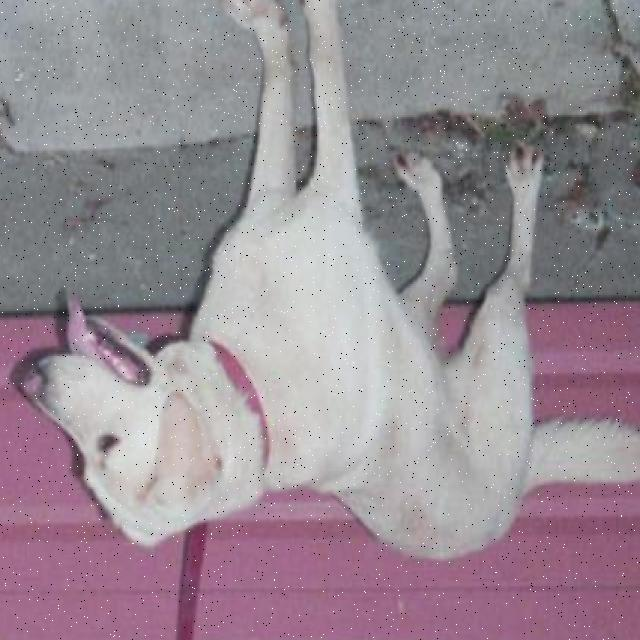Dog: (9, 280, 234, 561)
